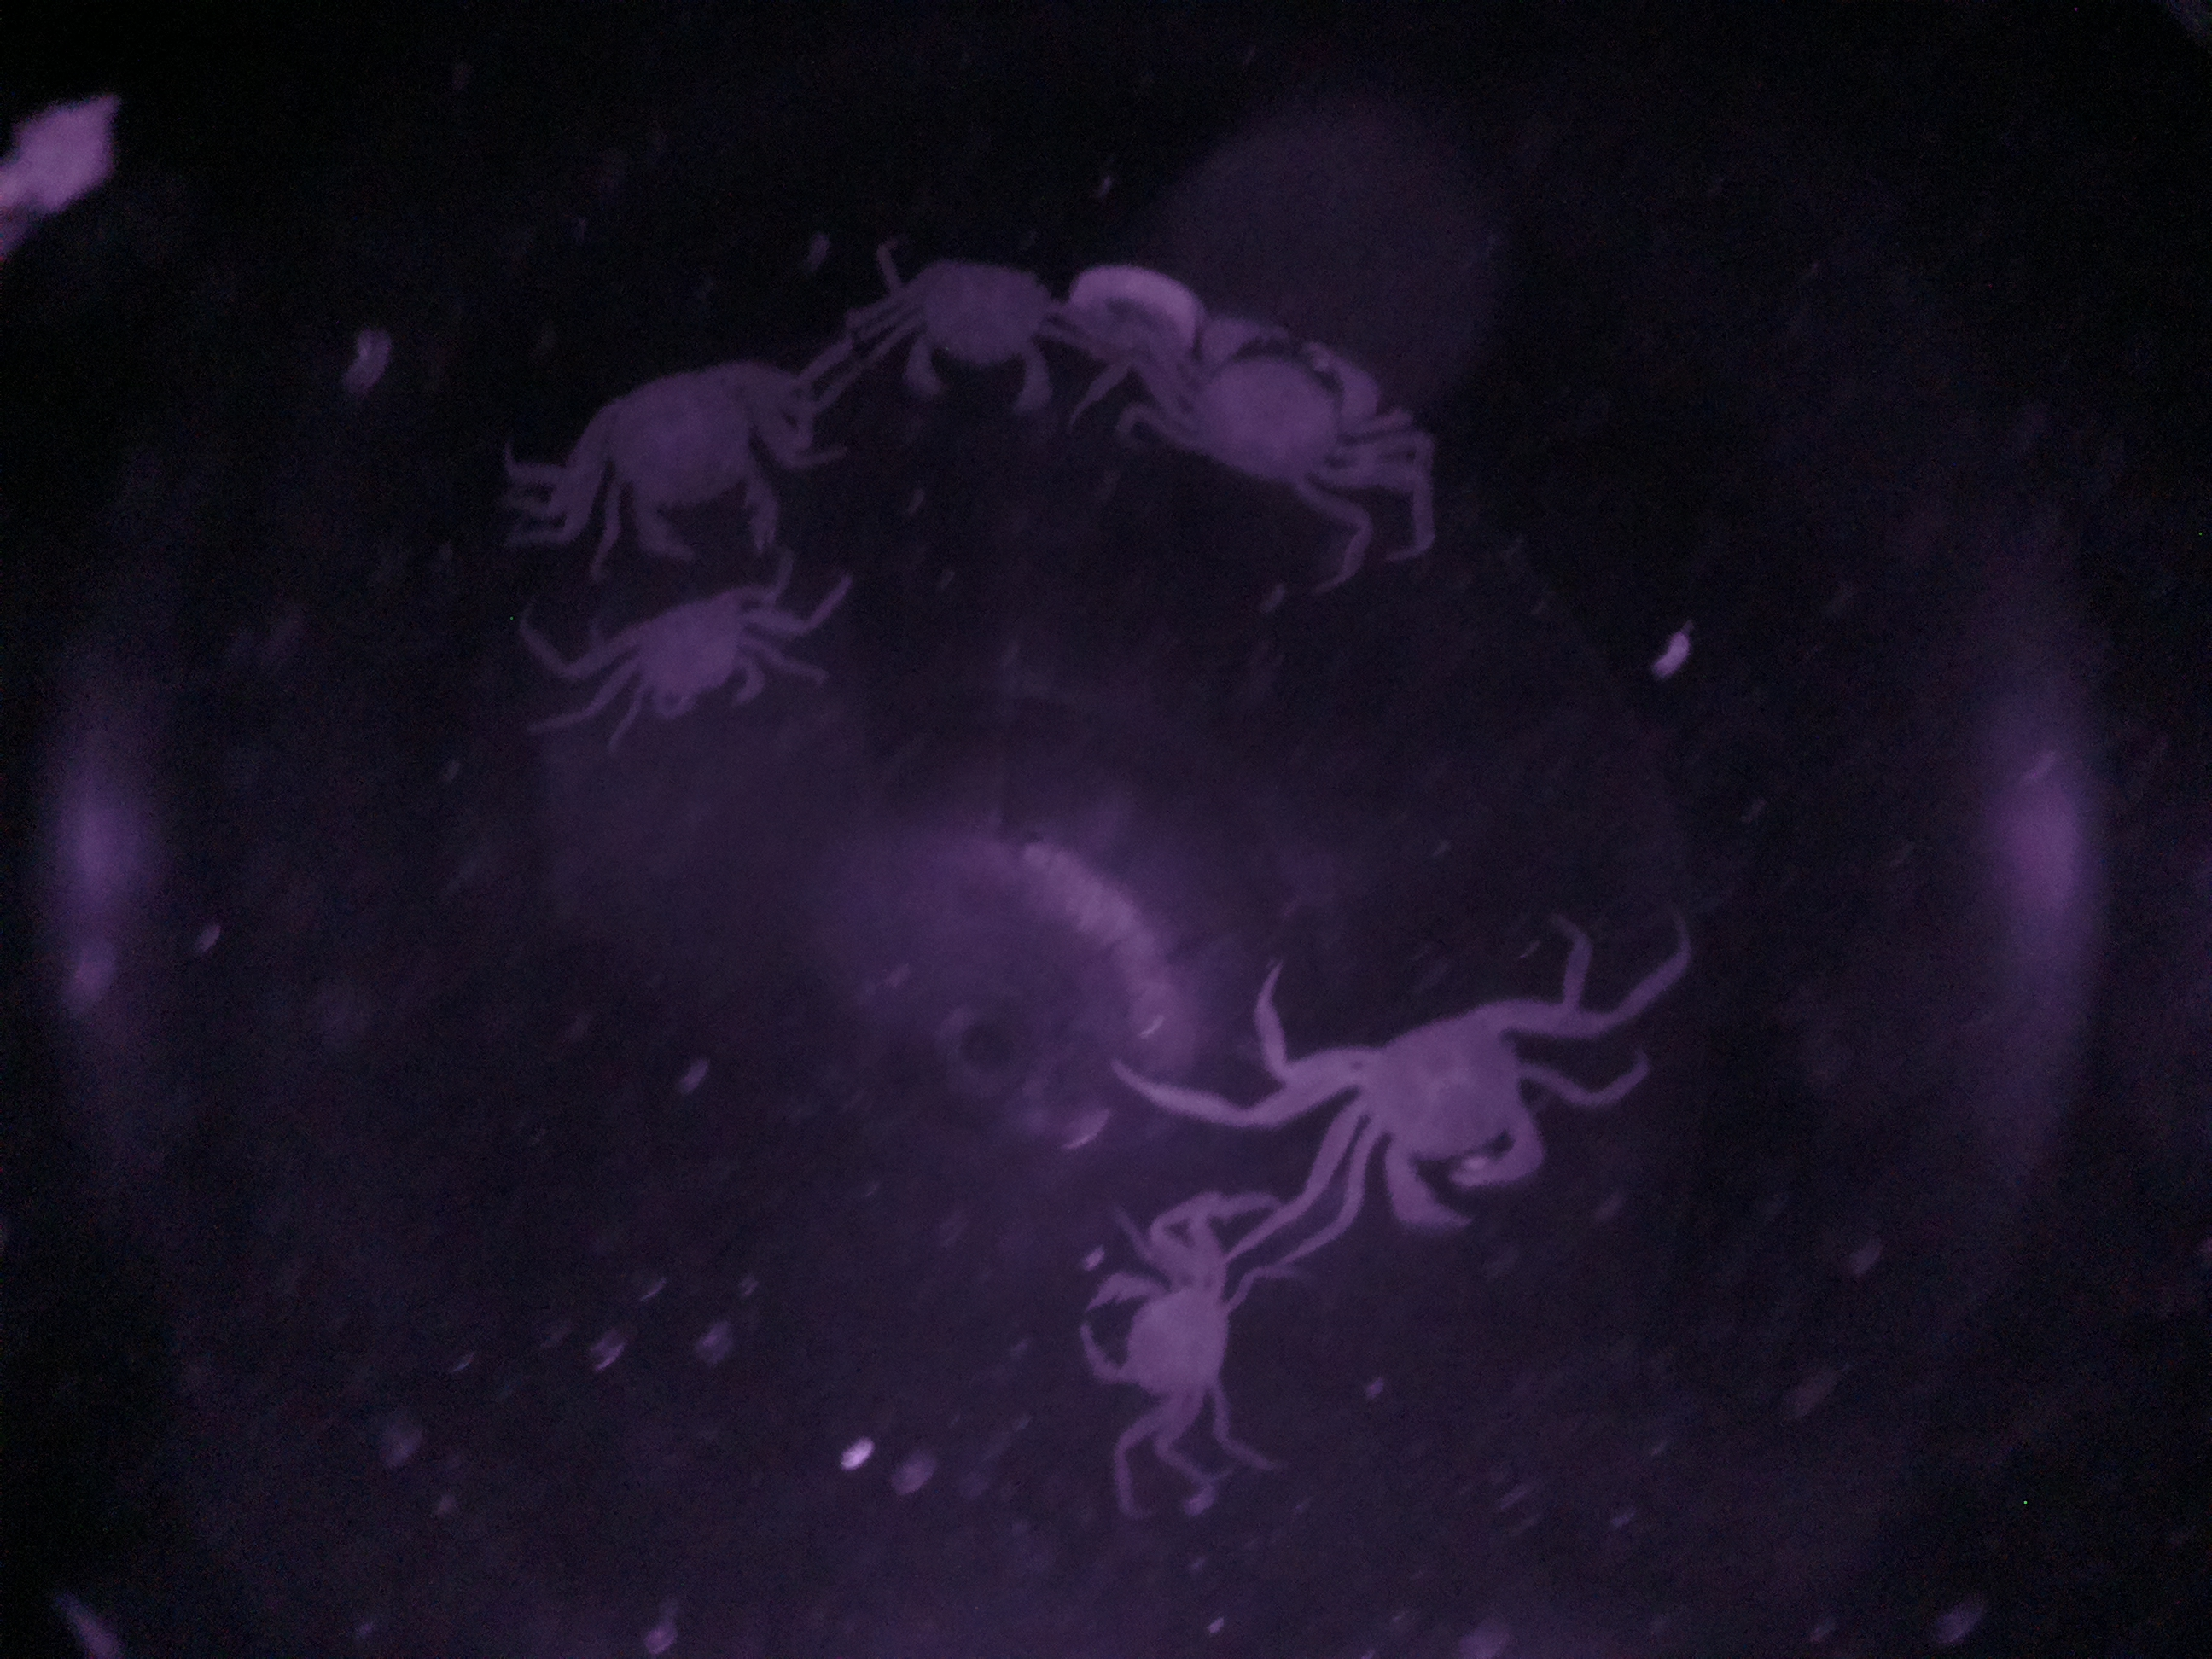Crab: (1305, 981, 1580, 1234), (1139, 296, 1399, 514), (589, 345, 796, 558), (1069, 1223, 1259, 1436), (878, 251, 1082, 430), (608, 586, 782, 741)
